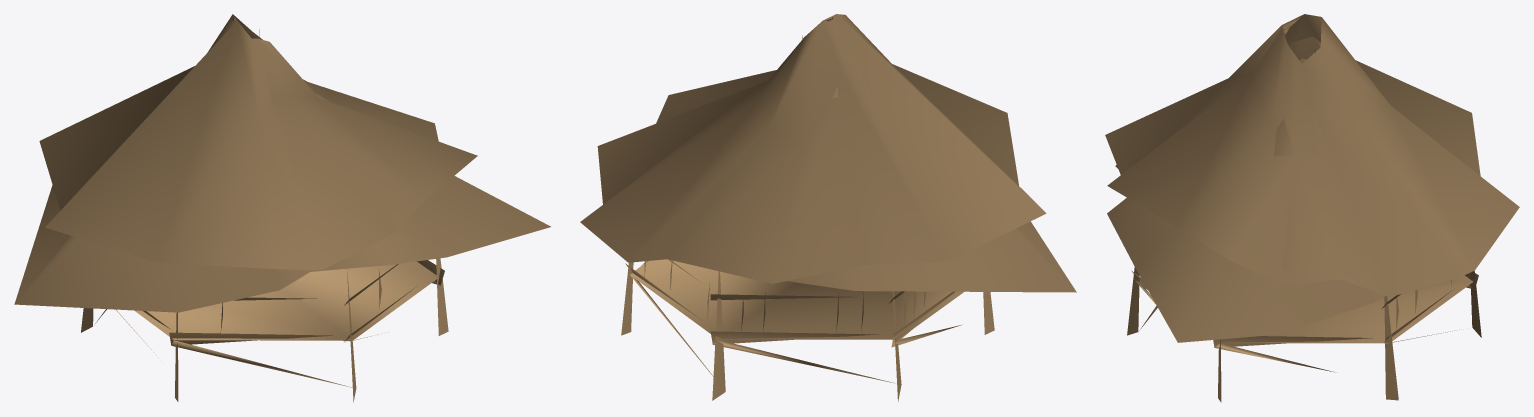
File: campamento_a_lejos.glb
3 views of the same model, side by side, from view 1: azimuth 30°, elevation 25°; view 2: azimuth 150°, elevation 25°; view 3: azimuth 270°, elevation 25° (orthographic). The views are drawn at different scales.
Parts seen in each view (by area): view 1: campamento_a_lejos; view 2: campamento_a_lejos; view 3: campamento_a_lejos.
Boxes of the visible parts, x1=… form: campamento_a_lejos: x1=14, y1=14, x2=550, y2=402; campamento_a_lejos: x1=580, y1=14, x2=1076, y2=401; campamento_a_lejos: x1=1105, y1=14, x2=1519, y2=402.
Bounding box in the file's own units: 4.37 × 2.8 × 3.4.
